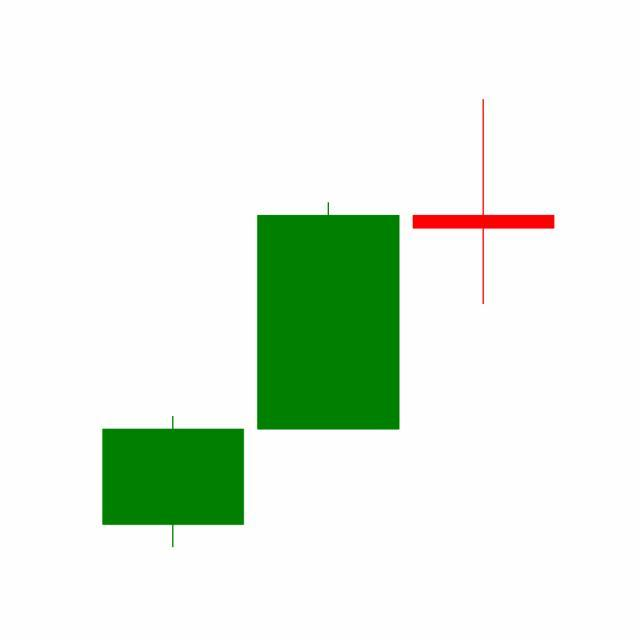Marubozu: (250, 200, 407, 432)
